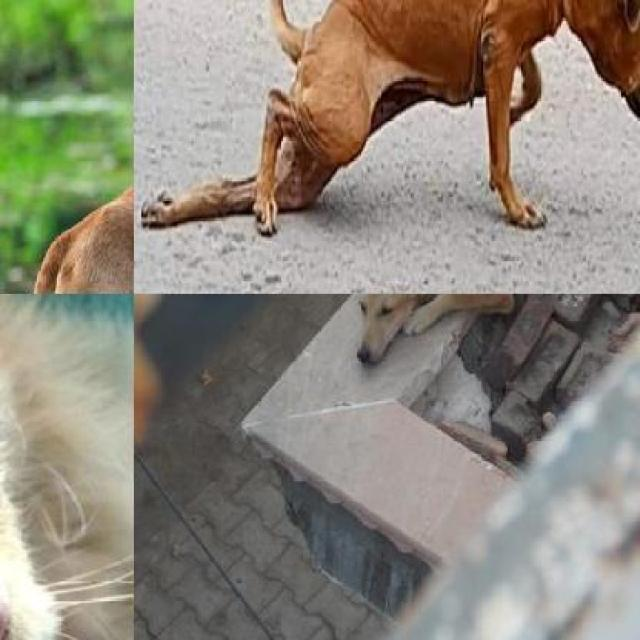cat: (0, 294, 134, 640)
dog: (134, 0, 640, 228), (6, 60, 134, 294), (353, 294, 564, 363)
injured: (134, 84, 420, 234)
